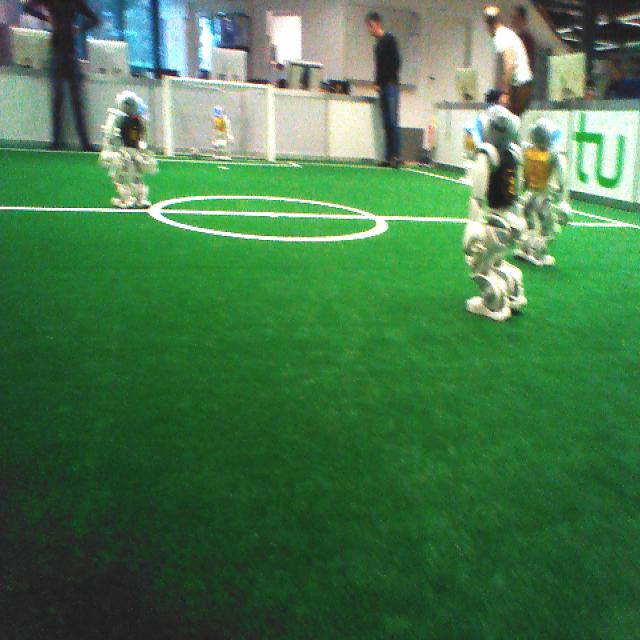goalpost: (162, 75, 174, 156), (265, 86, 276, 162)
